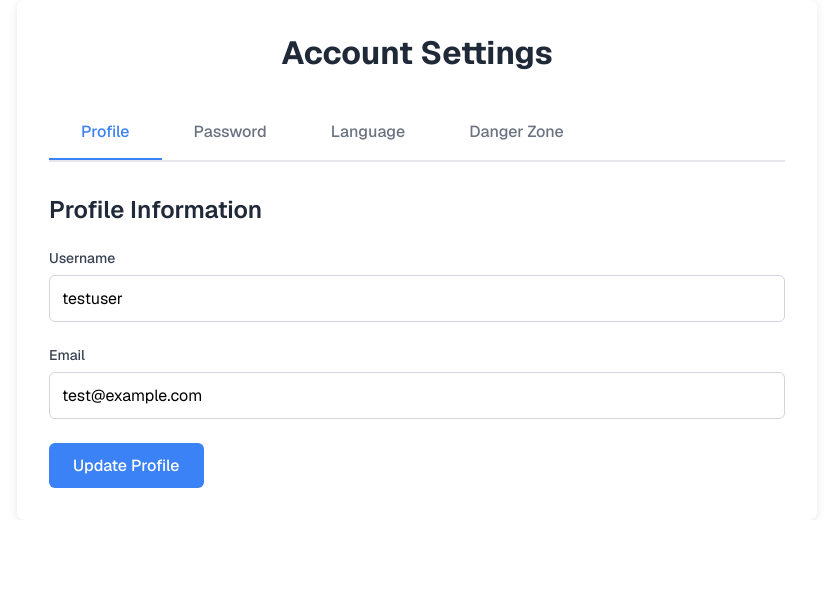
AccountSettings › updates profile information successfully
The width and height of the screenshot is (835, 616).
Replace the text in the field showing "testuser" with "newusername": point(417, 298) [49,275,785,322]
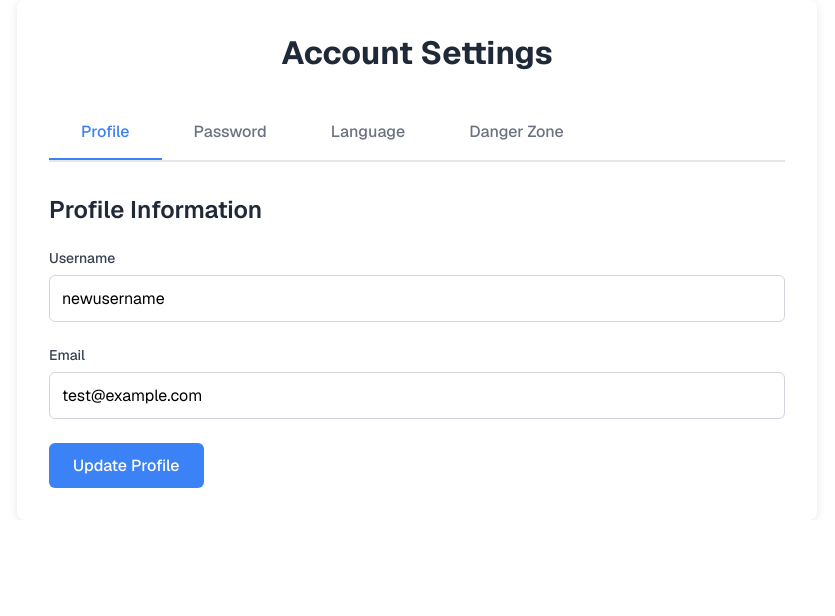
Click the button "Update Profile": point(126, 466) [49,443,204,488]
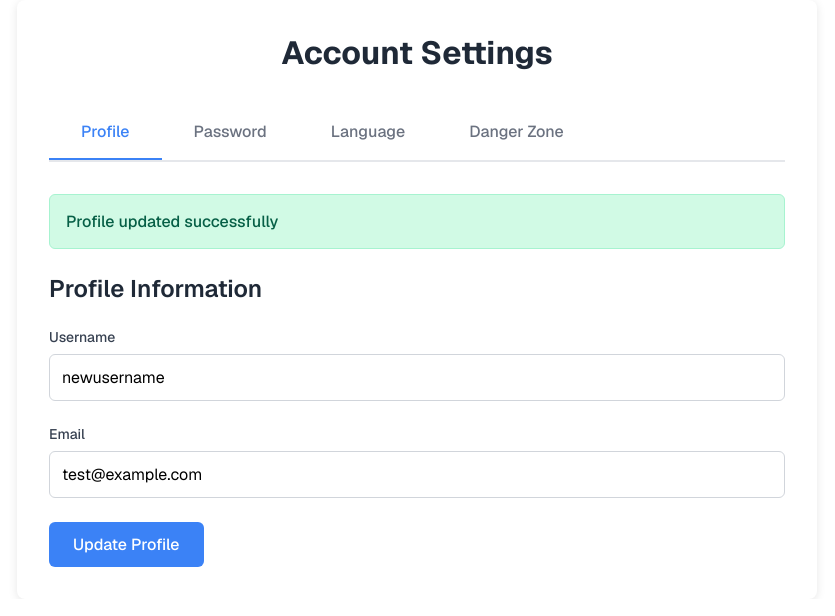
Expected: the text "Profile updated successfully" is shown, [49,194,785,249]
